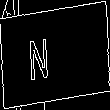N_N: (44, 28, 66, 82)
